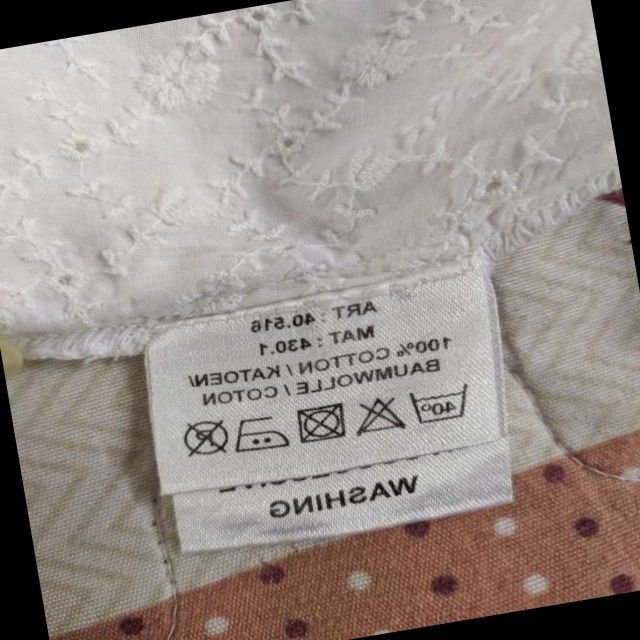40C: (407, 379, 472, 428)
DN_bleach: (351, 389, 410, 439)
DN_dry_clean: (178, 415, 232, 461)
DN_tumble_dry: (294, 400, 351, 449)
iron_medium: (230, 411, 291, 457)
